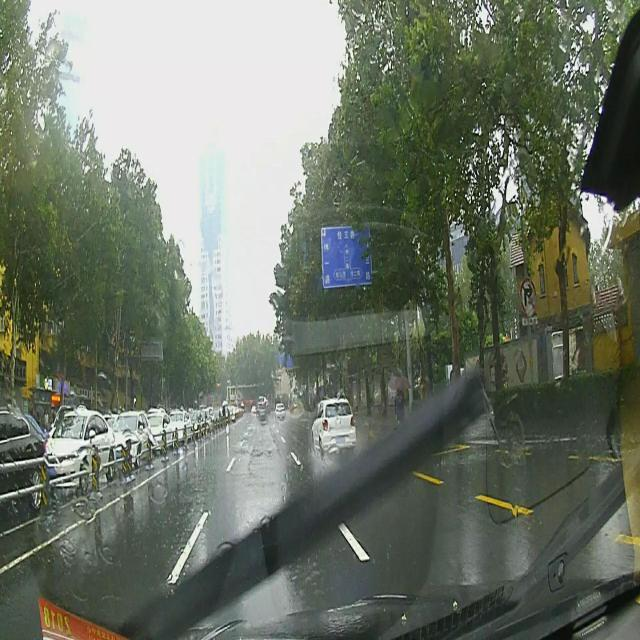car: (44, 408, 116, 496), (0, 406, 46, 512), (310, 396, 356, 456), (114, 411, 152, 468), (148, 406, 176, 448), (172, 412, 192, 440), (258, 402, 268, 422), (276, 400, 284, 420), (250, 402, 256, 418)
